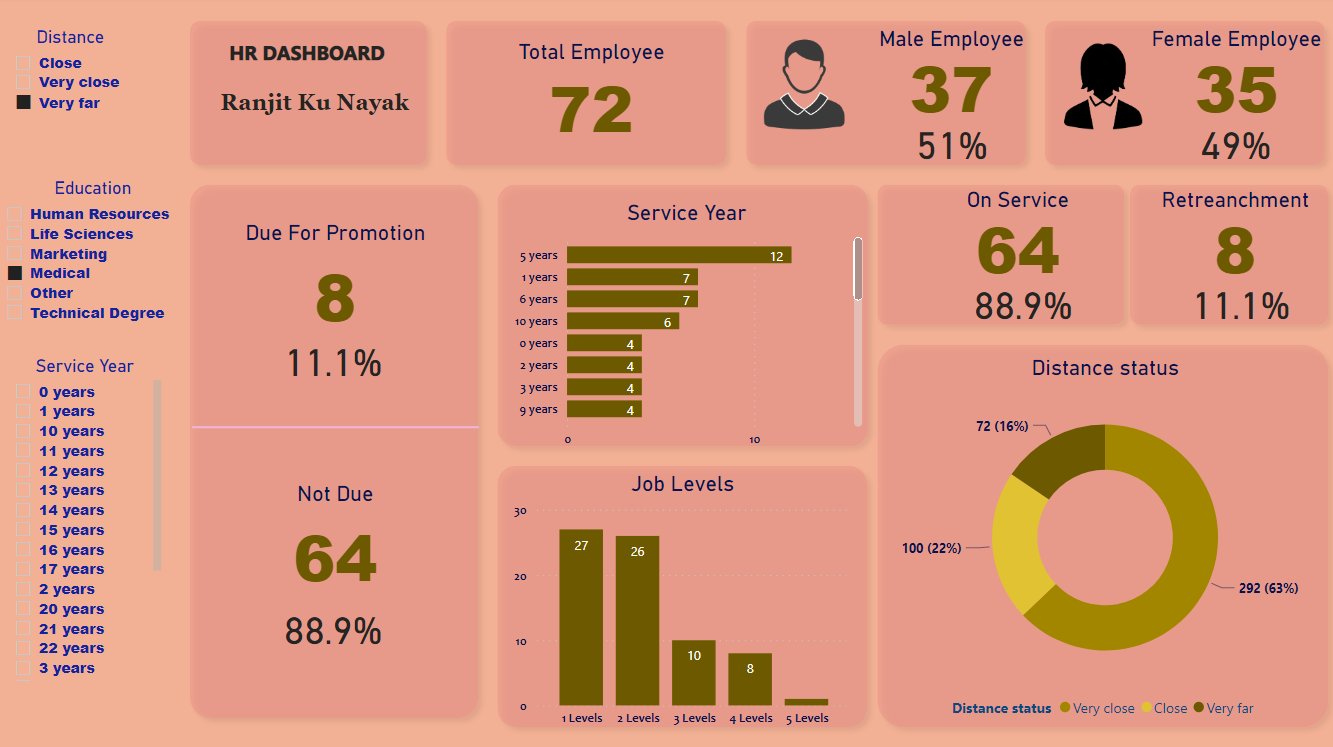

What the dashboard file says about the page in this screenshot:
{"tool":"powerbi","page":{"name":"Page 1","canvas":[1280,720],"ordinal":0},"visuals":[{"type":"shape","box":[177.3,14.3,244,155.9],"z":1000},{"type":"shape","box":[421.6,13.9,285,156.4],"z":2000},{"type":"shape","box":[706.6,13.9,285,156.4],"z":3000},{"type":"shape","box":[991.6,13.9,285,156.4],"z":4000},{"type":"shape","box":[177.3,170.2,292.8,526],"z":5000},{"type":"shape","box":[470.1,170.2,371.3,267.8],"z":6000},{"type":"shape","box":[470.3,437.9,370.7,267.6],"z":7000},{"type":"shape","box":[831.7,170.3,253.7,151.7],"z":8000},{"type":"shape","box":[1072.7,170.3,207.3,151.7],"z":9000},{"type":"shape","box":[831.7,322,448.3,383.4],"z":10000},{"type":"textbox","box":[219,35.7,202.3,48.8],"z":11000},{"type":"textbox","box":[210.6,84.5,215.4,47.6],"z":12000},{"type":"card","title":"Total Employee","fields":{"Values":["All Measures.Total Emp"]},"box":[430.8,40.5,276.1,103.5],"z":13000},{"type":"card","title":"Male Employee","fields":{"Values":["All Measures.Male"]},"box":[831.9,28.6,159.5,89.3],"z":14000},{"type":"card","fields":{"Values":["All Measures.% Male"]},"box":[831.9,105.9,159.5,66.6],"z":15000},{"type":"card","title":"Female Employee","fields":{"Values":["All Measures.Female"]},"box":[1085.4,28.6,195.2,89.3],"z":16000},{"type":"card","fields":{"Values":["All Measures.% Female"]},"box":[1113.9,108.3,136.9,61.9],"z":17000},{"type":"image","box":[723.6,35.7,96.4,96.4],"z":18000},{"type":"image","box":[1009.2,40.5,92.8,91.6],"z":19000},{"type":"card","title":"Not Due","fields":{"Values":["All Measures.Not due"]},"box":[223.7,461.8,202.3,115.4],"z":20000},{"type":"card","fields":{"Values":["All Measures.% Not Due"]},"box":[223.7,560.5,198.7,82.1],"z":21000},{"type":"card","fields":{"Values":["All Measures.% Due For Promotion"]},"box":[223.7,304.7,198.7,82.1],"z":22000},{"type":"card","title":"Due For Promotion","fields":{"Values":["All Measures.Due for promotion"]},"box":[233.3,213,183.3,116.6],"z":23000},{"type":"barChart","title":"Service Year","fields":{"Category":["HR Analytics Data.Service year"],"Y":["All Measures.Total Emp"]},"box":[486.7,194,345.1,244],"z":24000},{"type":"columnChart","title":"Job Levels","fields":{"Category":["HR Analytics Data.Job Levels"],"Y":["All Measures.Total Emp"]},"box":[489.1,452.2,333.2,252.3],"z":25000},{"type":"shape","box":[188,260.6,273.7,299.9],"z":26000},{"type":"card","title":"On Service","fields":{"Values":["All Measures.On Service"]},"box":[877.1,182.1,195.2,89.3],"z":27000},{"type":"card","fields":{"Values":["All Measures.% On Service"]},"box":[911.6,260.6,136.9,61.9],"z":28000},{"type":"card","title":"Retreanchment","fields":{"Values":["All Measures.Will be Retreanchment"]},"box":[1084.2,182.6,195.2,89.3],"z":29000},{"type":"card","fields":{"Values":["All Measures.% Will be retreanchment"]},"box":[1118.7,261.1,136.9,61.9],"z":30000},{"type":"donutChart","title":"Distance status","fields":{"Category":["HR Analytics Data.Distance status"],"Y":["All Measures.Total Emp"]},"box":[840.2,341.6,435.6,354.6],"z":31000},{"type":"slicer","title":"Distance","fields":{"Values":["HR Analytics Data.Distance status"]},"box":[8.3,28.6,128.5,89.3],"z":31001},{"type":"slicer","title":"Education","fields":{"Values":["HR Analytics Data.EducationField"]},"box":[0,172.6,188,169],"z":31002},{"type":"slicer","title":"Service Year","fields":{"Values":["HR Analytics Data.Service year"]},"box":[8.3,341.6,155.9,316.6],"z":31003}]}

Visuals, with their boxes in screenshot pixels (x1, y1, x2, y2), scaled from the page's 1280x720 canvas onto the 1333x747 screenshot:
shape: BBox(185, 15, 439, 177)
shape: BBox(439, 14, 736, 177)
shape: BBox(736, 14, 1033, 177)
shape: BBox(1033, 14, 1329, 177)
shape: BBox(185, 177, 490, 722)
shape: BBox(490, 177, 876, 454)
shape: BBox(490, 454, 876, 732)
shape: BBox(866, 177, 1130, 334)
shape: BBox(1117, 177, 1332, 334)
shape: BBox(866, 334, 1332, 732)
textbox: BBox(228, 37, 439, 88)
textbox: BBox(219, 88, 444, 137)
"Total Employee" card: BBox(449, 42, 736, 149)
"Male Employee" card: BBox(866, 30, 1032, 122)
card - All Measures.% Male: BBox(866, 110, 1032, 179)
"Female Employee" card: BBox(1130, 30, 1332, 122)
card - All Measures.% Female: BBox(1160, 112, 1303, 177)
image: BBox(754, 37, 854, 137)
image: BBox(1051, 42, 1148, 137)
"Not Due" card: BBox(233, 479, 444, 599)
card - All Measures.% Not Due: BBox(233, 582, 440, 667)
card - All Measures.% Due For Promotion: BBox(233, 316, 440, 401)
"Due For Promotion" card: BBox(243, 221, 434, 342)
"Service Year" barChart: BBox(507, 201, 866, 454)
"Job Levels" columnChart: BBox(509, 469, 856, 731)
shape: BBox(196, 270, 481, 582)
"On Service" card: BBox(913, 189, 1117, 282)
card - All Measures.% On Service: BBox(949, 270, 1092, 335)
"Retreanchment" card: BBox(1129, 189, 1332, 282)
card - All Measures.% Will be retreanchment: BBox(1165, 271, 1308, 335)
"Distance status" donutChart: BBox(875, 354, 1329, 722)
"Distance" slicer: BBox(9, 30, 142, 122)
"Education" slicer: BBox(0, 179, 196, 354)
"Service Year" slicer: BBox(9, 354, 171, 683)
